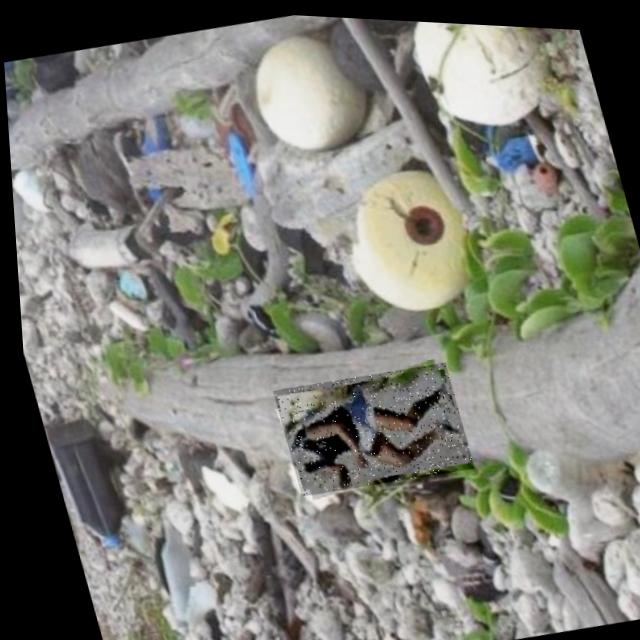Person in Rubble: (265, 349, 470, 499)
